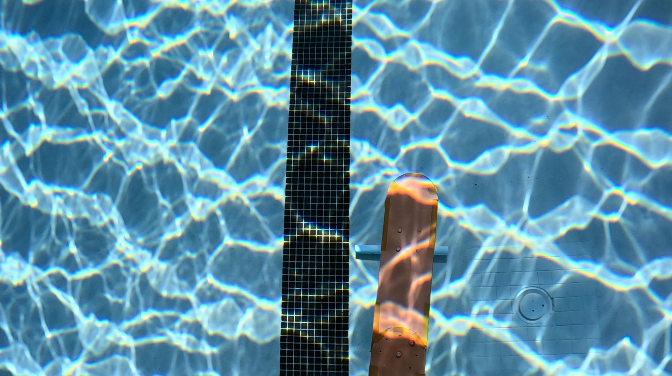pathmarker: (369, 173, 436, 375)
